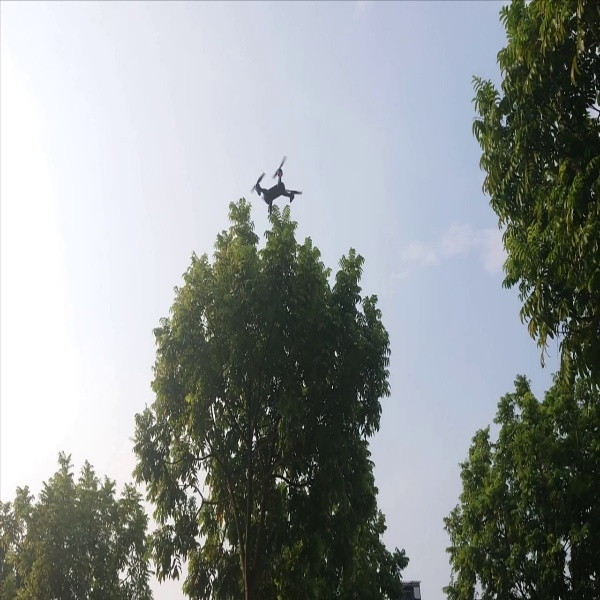drone: (250, 158, 303, 220)
